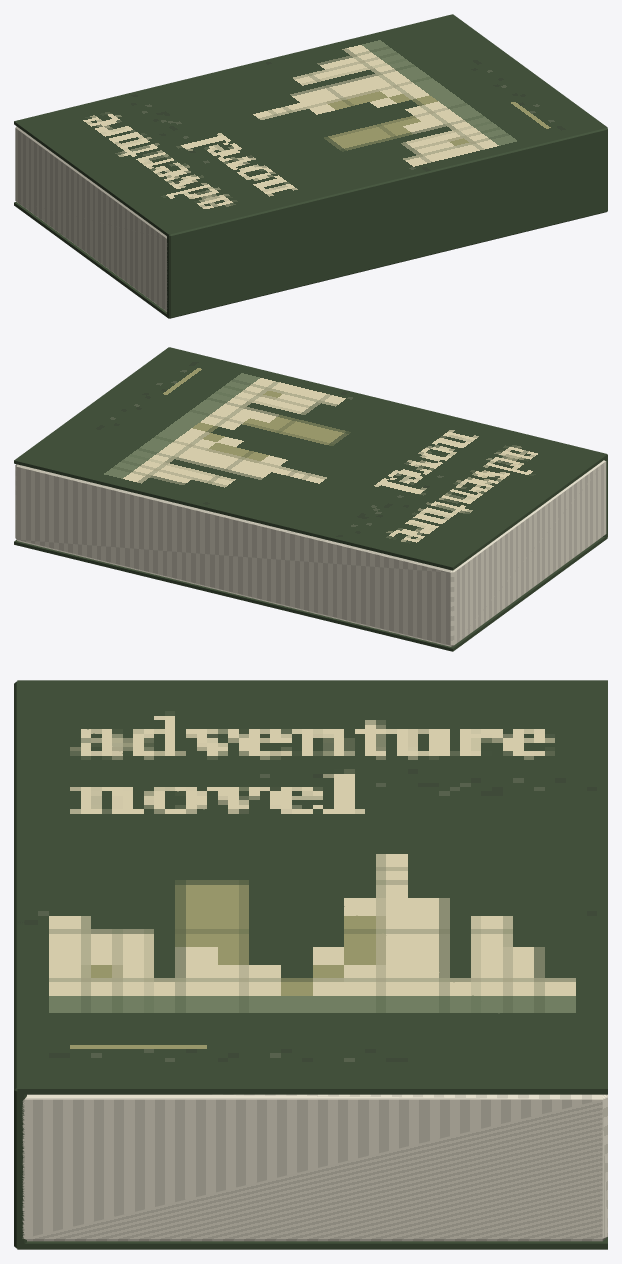
File: novel_adventure.glb
3 views of the same model, one above another, from view 1: azimuth 30°, elevation 25°; view 2: azimuth 150°, elevation 25°; view 3: azimuth 270°, elevation 25° (orthographic). The views are drawn at different scales.
Visible parts, largest first — view 1: block_front, block_spine, block_pages, block_back; view 2: block_front, block_pages, block_back, block_spine; view 3: block_front, block_pages, block_spine, block_back.
Part boxes in pixels (x1,y1,x2,y2): block_front: (14, 14, 607, 237); block_spine: (167, 128, 607, 318); block_pages: (15, 126, 167, 311); block_back: (14, 202, 607, 318); block_front: (14, 347, 607, 570); block_pages: (15, 460, 606, 646); block_back: (14, 536, 607, 651); block_spine: (168, 347, 607, 536); block_front: (17, 680, 607, 1094); block_pages: (22, 1094, 607, 1241); block_spine: (14, 681, 26, 1248); block_back: (17, 1237, 607, 1249).
Bounding box in the file's own units: 0.18 × 0.033 × 0.1106.
1 material, 1 textured.
